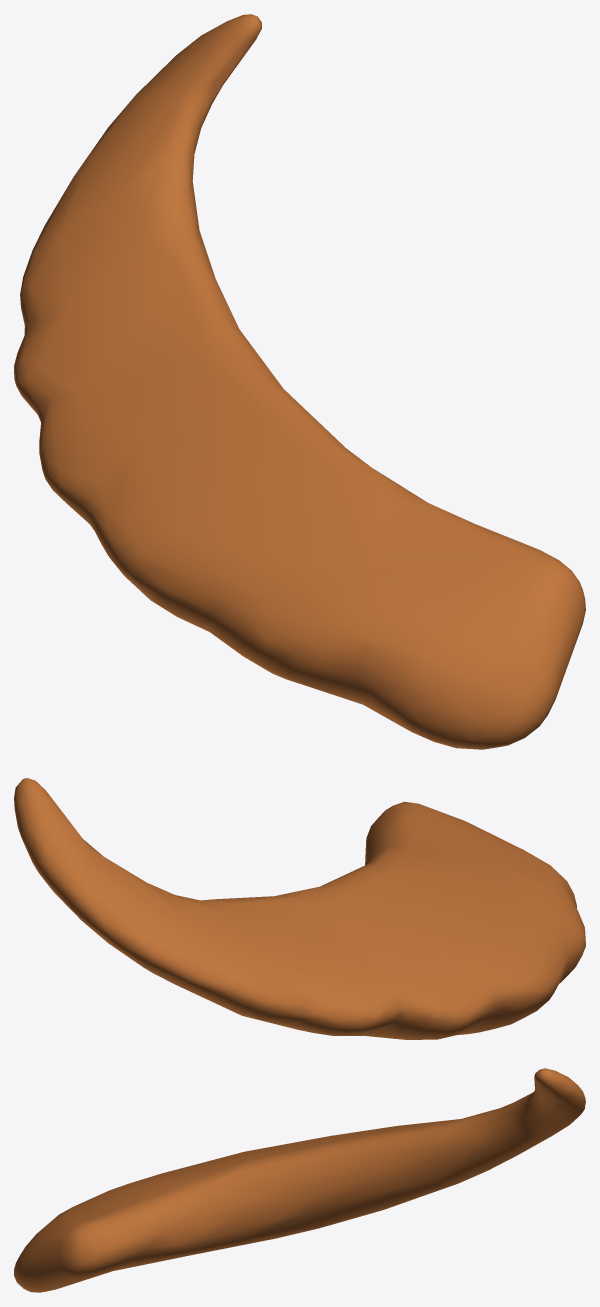
File: Hippocampus_right.glb
The picture shows the model from 3 angles, top to bottom: view 1: azimuth 30°, elevation 25°; view 2: azimuth 150°, elevation 25°; view 3: azimuth 270°, elevation 25°; orthographic projection. The views are drawn at different scales.
Visible parts, largest first — view 1: Hippocampus.r_grp1.093; view 2: Hippocampus.r_grp1.093; view 3: Hippocampus.r_grp1.093.
Part boxes in pixels (x1=…): Hippocampus.r_grp1.093: x1=14, y1=14, x2=585, y2=749; Hippocampus.r_grp1.093: x1=14, y1=778, x2=585, y2=1039; Hippocampus.r_grp1.093: x1=14, y1=1068, x2=585, y2=1292.
Bounding box in the file's own units: 0.0194 × 0.0213 × 0.0416.
